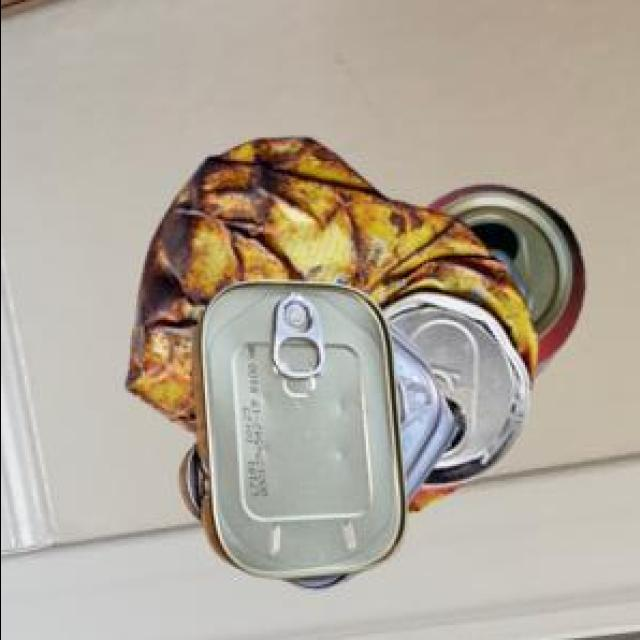logam: (128, 136, 540, 512), (181, 278, 461, 587), (426, 181, 587, 372)
